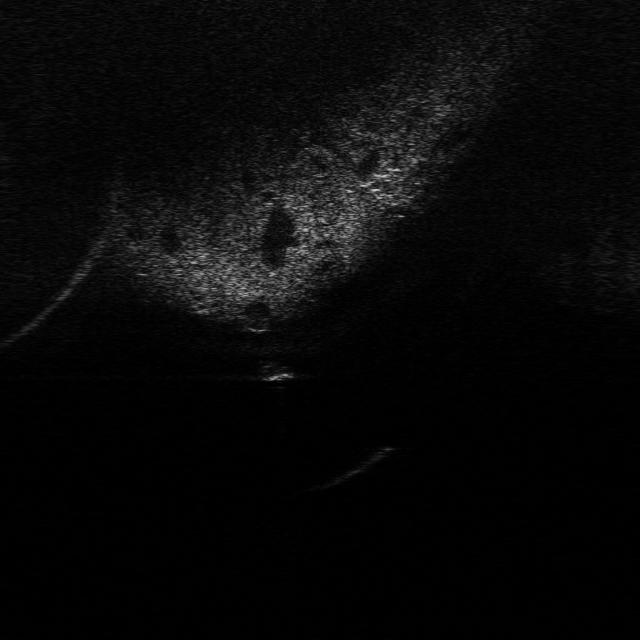cube: (252, 356, 306, 384)
cylinder: (340, 443, 396, 475)
